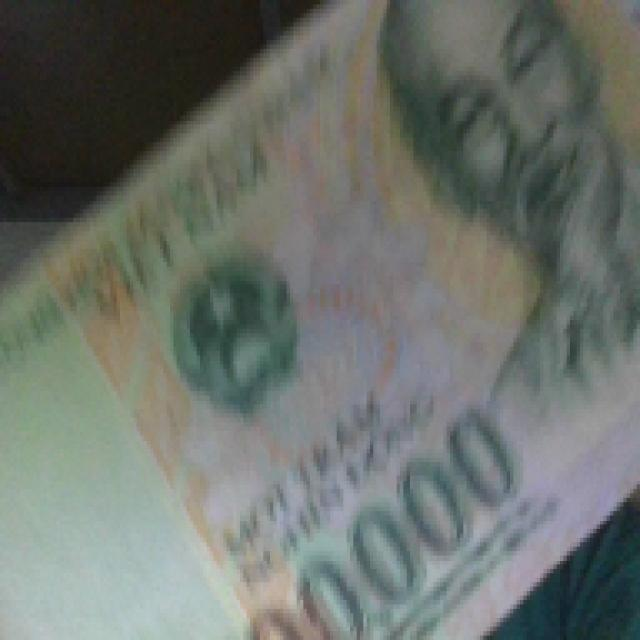100 000 VND: (1, 0, 637, 636)
